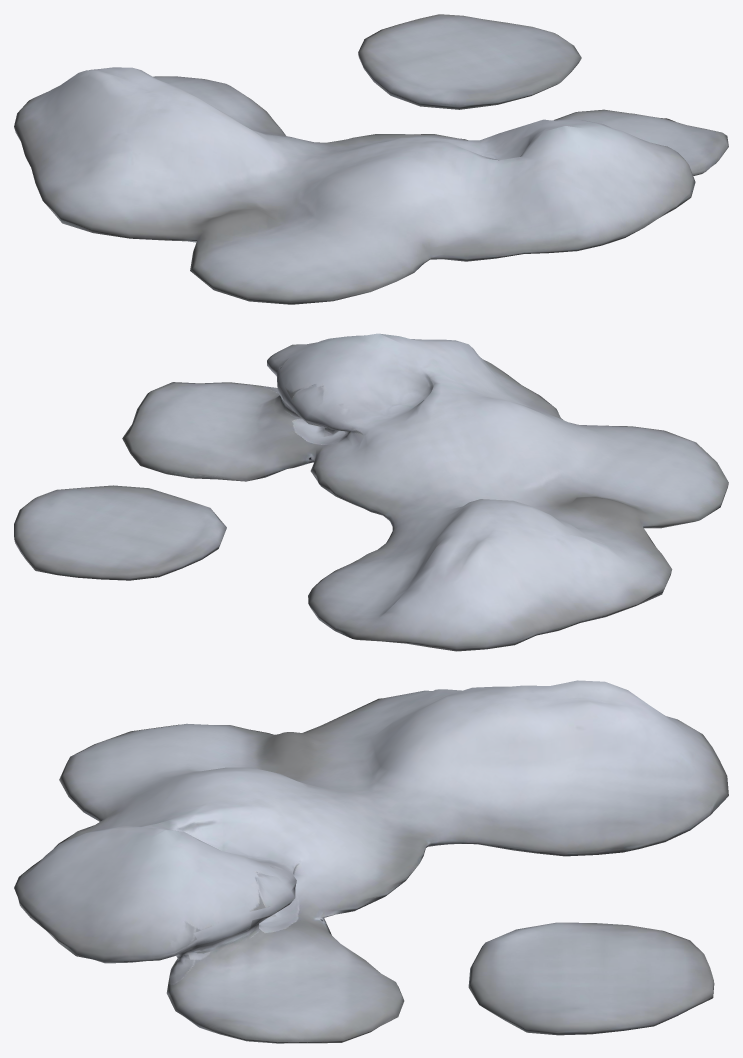
3 views of the same model, one above another, from view 1: azimuth 30°, elevation 25°; view 2: azimuth 150°, elevation 25°; view 3: azimuth 270°, elevation 25° (orthographic). The views are drawn at different scales.
Visible parts, largest first — view 1: mesh; view 2: mesh; view 3: mesh.
Part boxes in pixels (x1,y1,x2,y2): mesh: (14,14,728,304); mesh: (14,333,728,651); mesh: (14,680,728,1043).
Size of the model in its own units: 0.987 by 0.1543 by 0.8844.
1 material, 1 textured.
